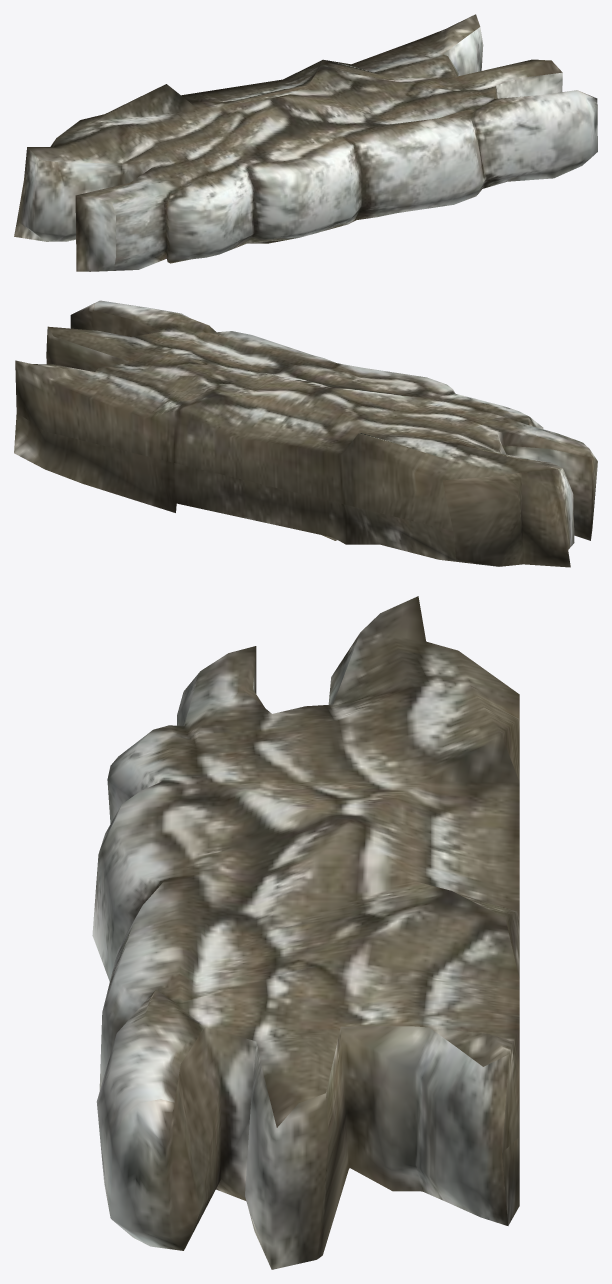
Rendered from military_sandbag_snow_shortsection.glb.
3 views of the same model, one above another, from view 1: azimuth 30°, elevation 25°; view 2: azimuth 150°, elevation 25°; view 3: azimuth 270°, elevation 25° (orthographic). The views are drawn at different scales.
Size of the model in its own units: 94.15 by 22.14 by 33.47.
1 material, 1 textured.
